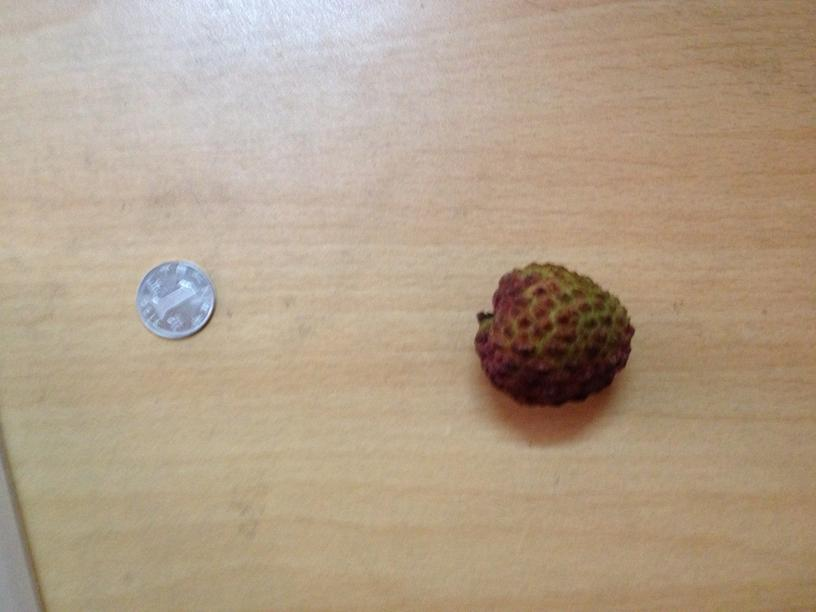coin: (135, 258, 216, 338)
litchi: (474, 261, 634, 406)
